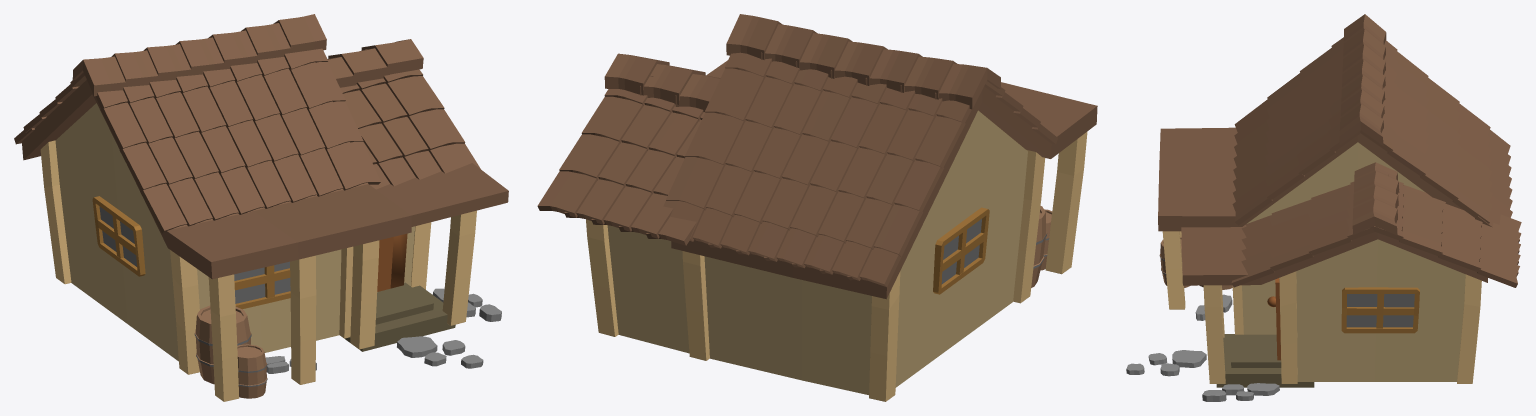
File: Rumah_Wicak.fbx
The picture shows the model from 3 angles, left to right: view 1: azimuth 30°, elevation 25°; view 2: azimuth 150°, elevation 25°; view 3: azimuth 270°, elevation 25°; orthographic projection. The views are drawn at different scales.
Parts seen in each view (by area): view 1: main Building.001; view 2: main Building.001; view 3: main Building.001.
Boxes of the visible parts, x1,y1,x2,y2 form: main Building.001: (14, 14, 508, 401); main Building.001: (537, 14, 1097, 401); main Building.001: (1126, 14, 1521, 401).
Size of the model in its own units: 686 by 547 by 788.
